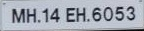character: (11, 8, 25, 23), (25, 8, 36, 23), (49, 7, 60, 22), (65, 6, 75, 22), (75, 6, 85, 22), (91, 6, 101, 22), (114, 5, 124, 21), (103, 6, 113, 21), (126, 5, 135, 20), (41, 7, 49, 23)
